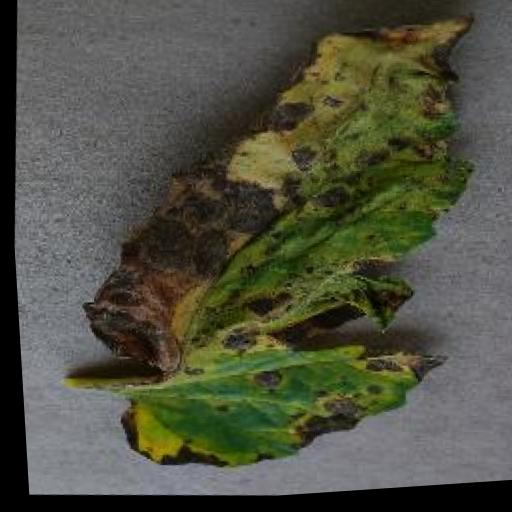Early Blight: (50, 0, 493, 498)
